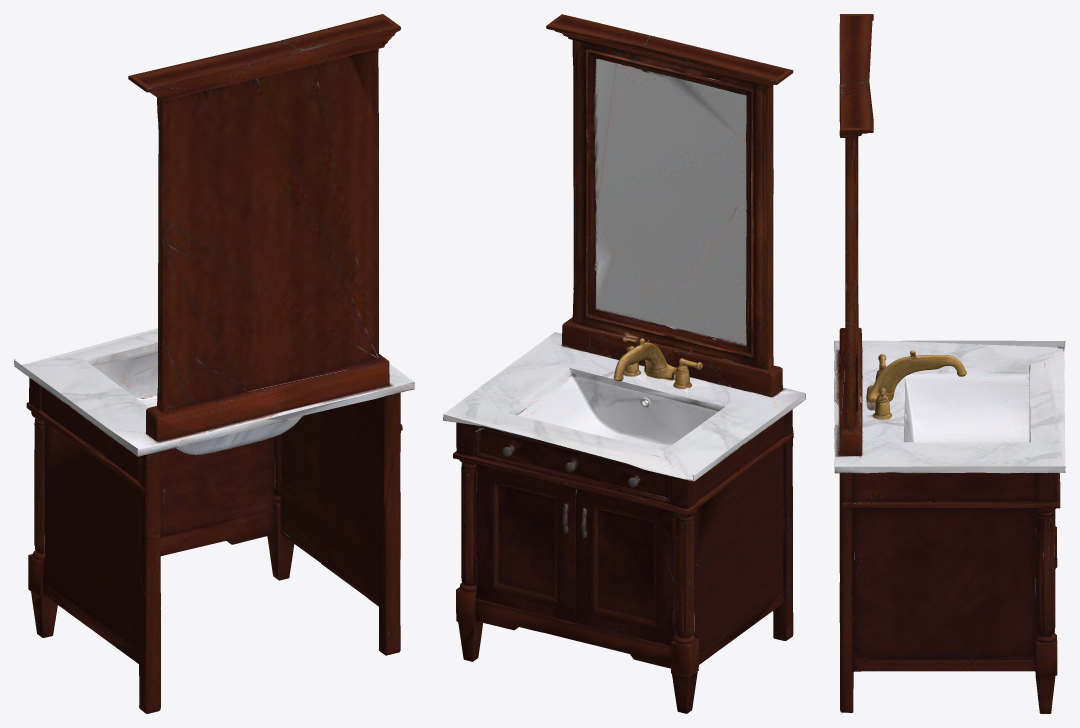
File: mj-washstand-marble.glb
The picture shows the model from 3 angles, left to right: view 1: azimuth 30°, elevation 25°; view 2: azimuth 150°, elevation 25°; view 3: azimuth 270°, elevation 25°; orthographic projection. The views are drawn at different scales.
Visible parts, largest first — view 1: mj-washstand-marble; view 2: mj-washstand-marble; view 3: mj-washstand-marble.
Part boxes in pixels (x1=…): mj-washstand-marble: x1=14, y1=14, x2=414, y2=713; mj-washstand-marble: x1=443, y1=14, x2=805, y2=713; mj-washstand-marble: x1=834, y1=14, x2=1065, y2=713.
Bounding box in the file's own units: 0.8539 × 1.85 × 0.661.
1 material, 1 textured.
